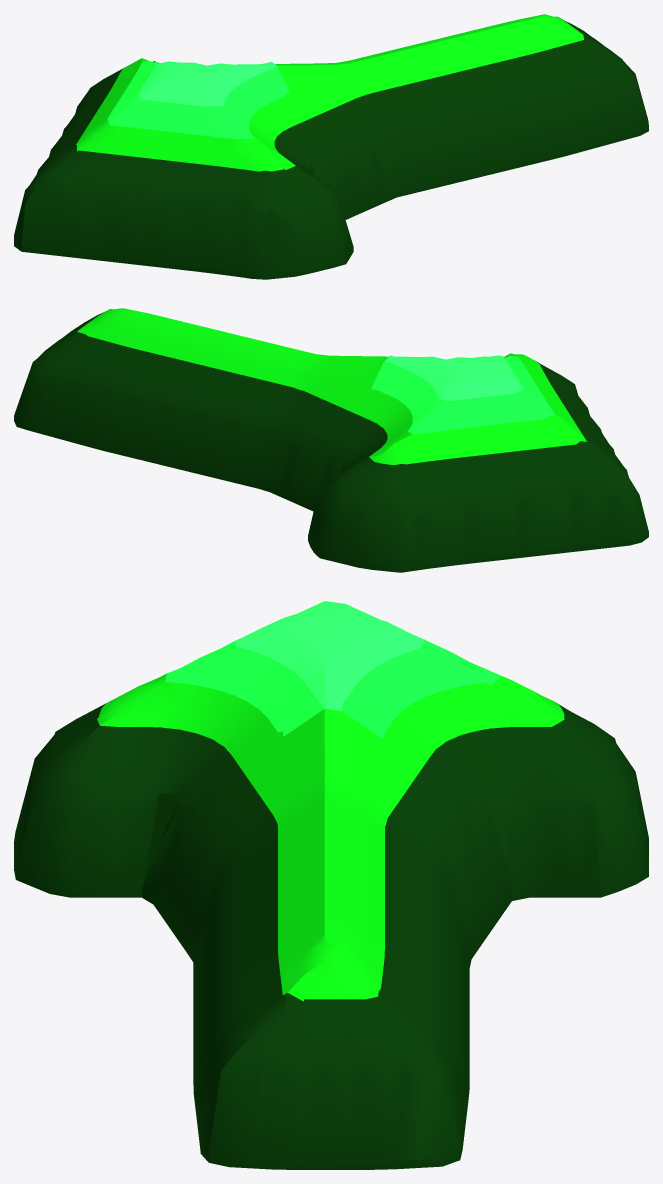
The model's file is arrow_left.glb.
3 views of the same model, one above another, from view 1: azimuth 30°, elevation 25°; view 2: azimuth 150°, elevation 25°; view 3: azimuth 270°, elevation 25° (orthographic). The views are drawn at different scales.
Visible parts, largest first — view 1: arrow_left; view 2: arrow_left; view 3: arrow_left.
Part boxes in pixels (x1=…): arrow_left: x1=14, y1=14, x2=648, y2=279; arrow_left: x1=14, y1=308, x2=648, y2=572; arrow_left: x1=14, y1=601, x2=648, y2=1169.
Bounding box in the file's own units: 12.07 × 2.52 × 6.9.
